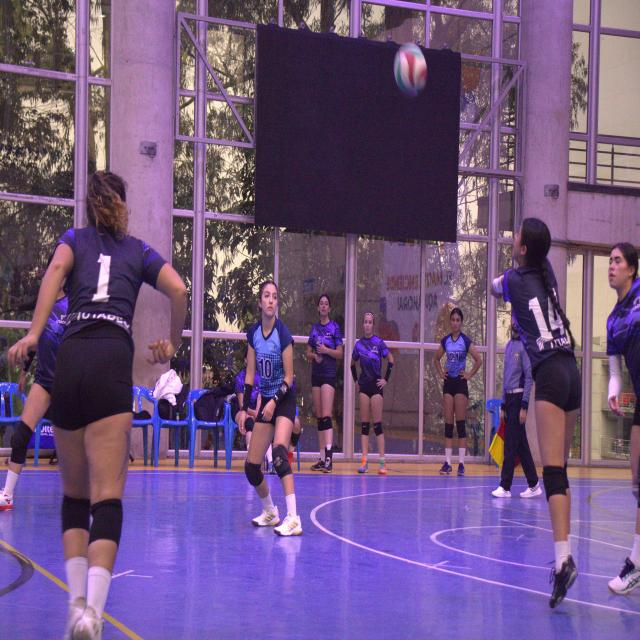volleyball: (393, 43, 427, 97)
